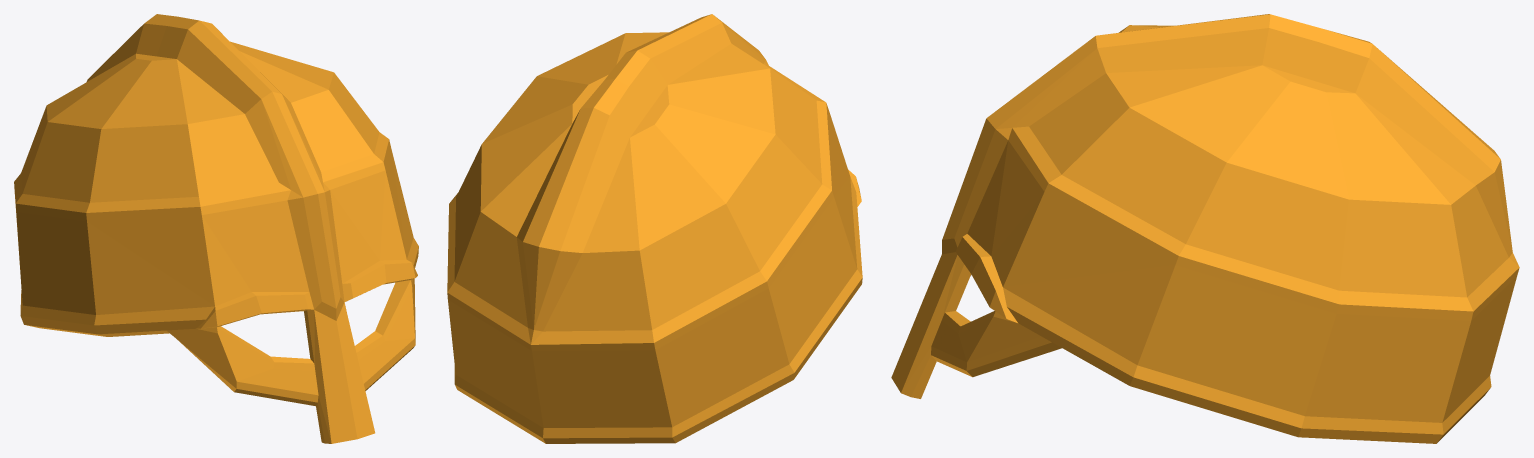
The model's file is SM_Helmet_Viking_Placed.fbx.
3 renders of one model, left to right at view 1: azimuth 30°, elevation 25°; view 2: azimuth 150°, elevation 25°; view 3: azimuth 270°, elevation 25°, orthographic. The views are drawn at different scales.
Parts seen in each view (by area): view 1: helmet-viking-placed; view 2: helmet-viking-placed; view 3: helmet-viking-placed.
Part boxes in pixels (x1,y1,x2,y2): helmet-viking-placed: (14,14,418,443); helmet-viking-placed: (447,14,862,443); helmet-viking-placed: (891,14,1519,443).
Size of the model in its own units: 0.2082 by 0.1911 by 0.2846.
